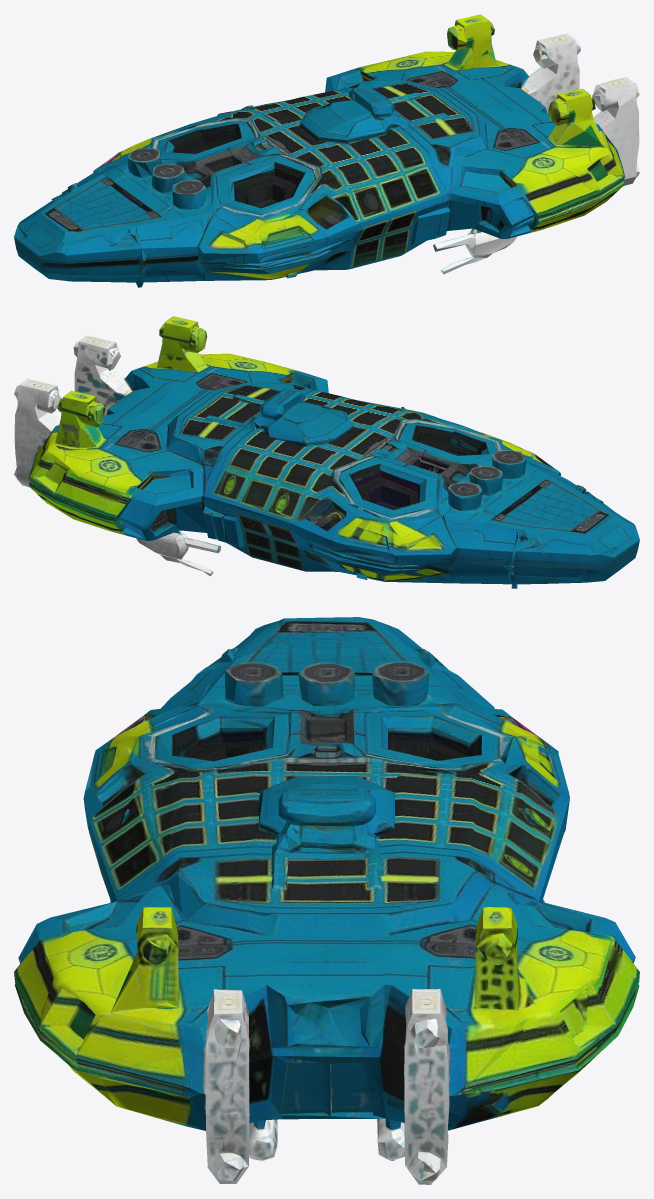
Rendered from nation-k-cruiser.glb.
3 renders of one model, top to bottom at view 1: azimuth 30°, elevation 25°; view 2: azimuth 150°, elevation 25°; view 3: azimuth 270°, elevation 25°, orthographic. The views are drawn at different scales.
Bounding box in the file's own units: 1.9 × 0.5562 × 1.06.
1 material, 1 textured.
